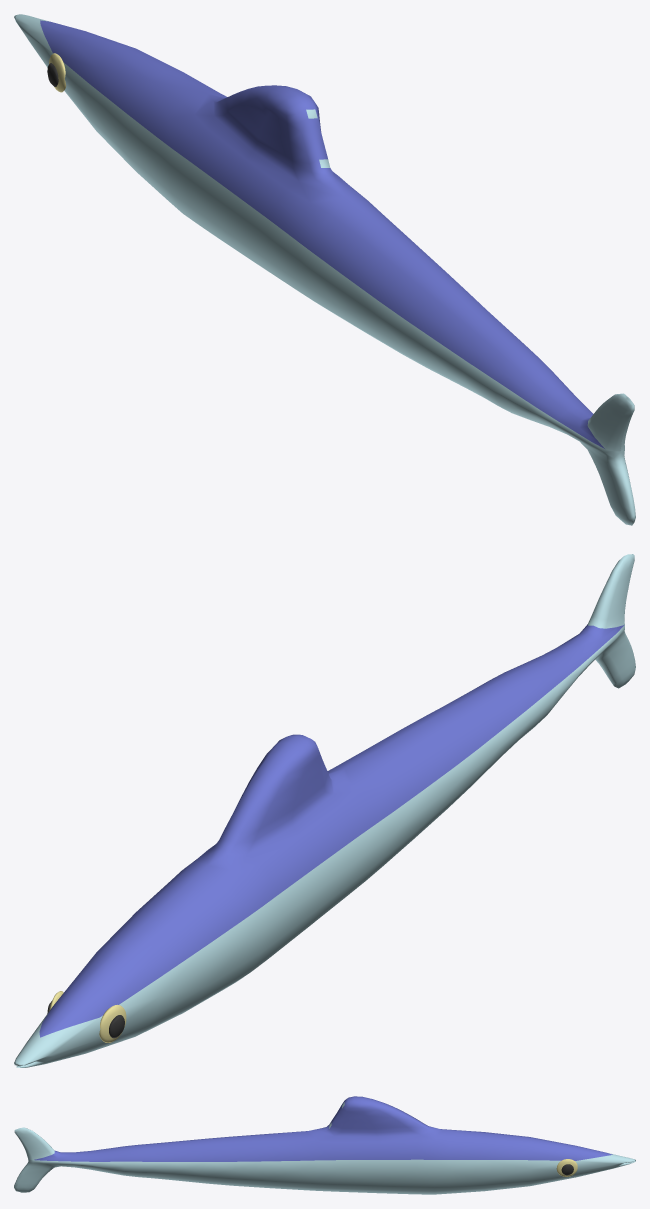
The model's file is sakana.fbx.
3 renders of one model, top to bottom at view 1: azimuth 30°, elevation 25°; view 2: azimuth 150°, elevation 25°; view 3: azimuth 270°, elevation 25°, orthographic. The views are drawn at different scales.
Visible parts, largest first — view 1: Cylinder; view 2: Cylinder; view 3: Cylinder.
Part boxes in pixels (box(x1,y1,x2,y2)): Cylinder: box(14, 14, 635, 525); Cylinder: box(14, 554, 635, 1067); Cylinder: box(14, 1096, 635, 1194).
Bounding box in the file's own units: 81.8 × 154 × 909.
